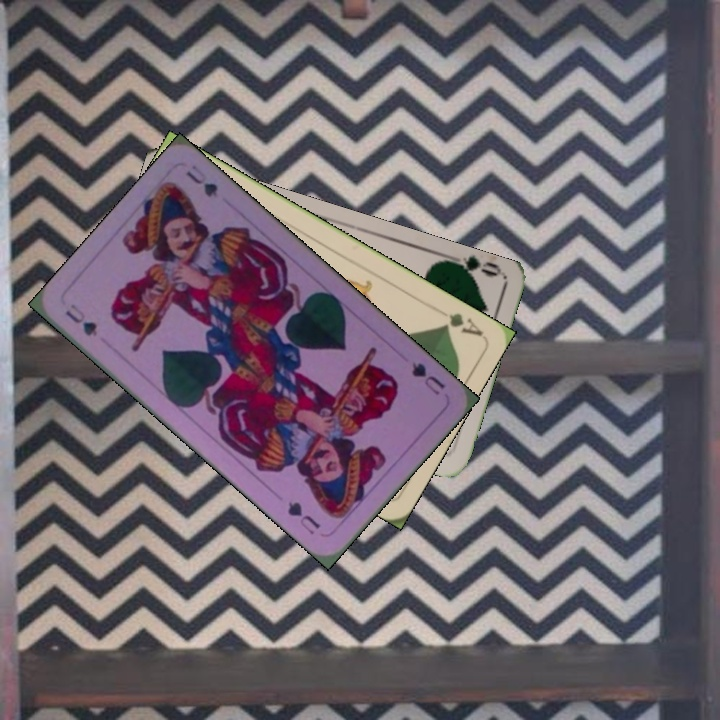GA: (437, 309, 485, 339)
GO: (443, 251, 503, 284)
GU: (407, 358, 448, 398), (61, 299, 101, 339)
